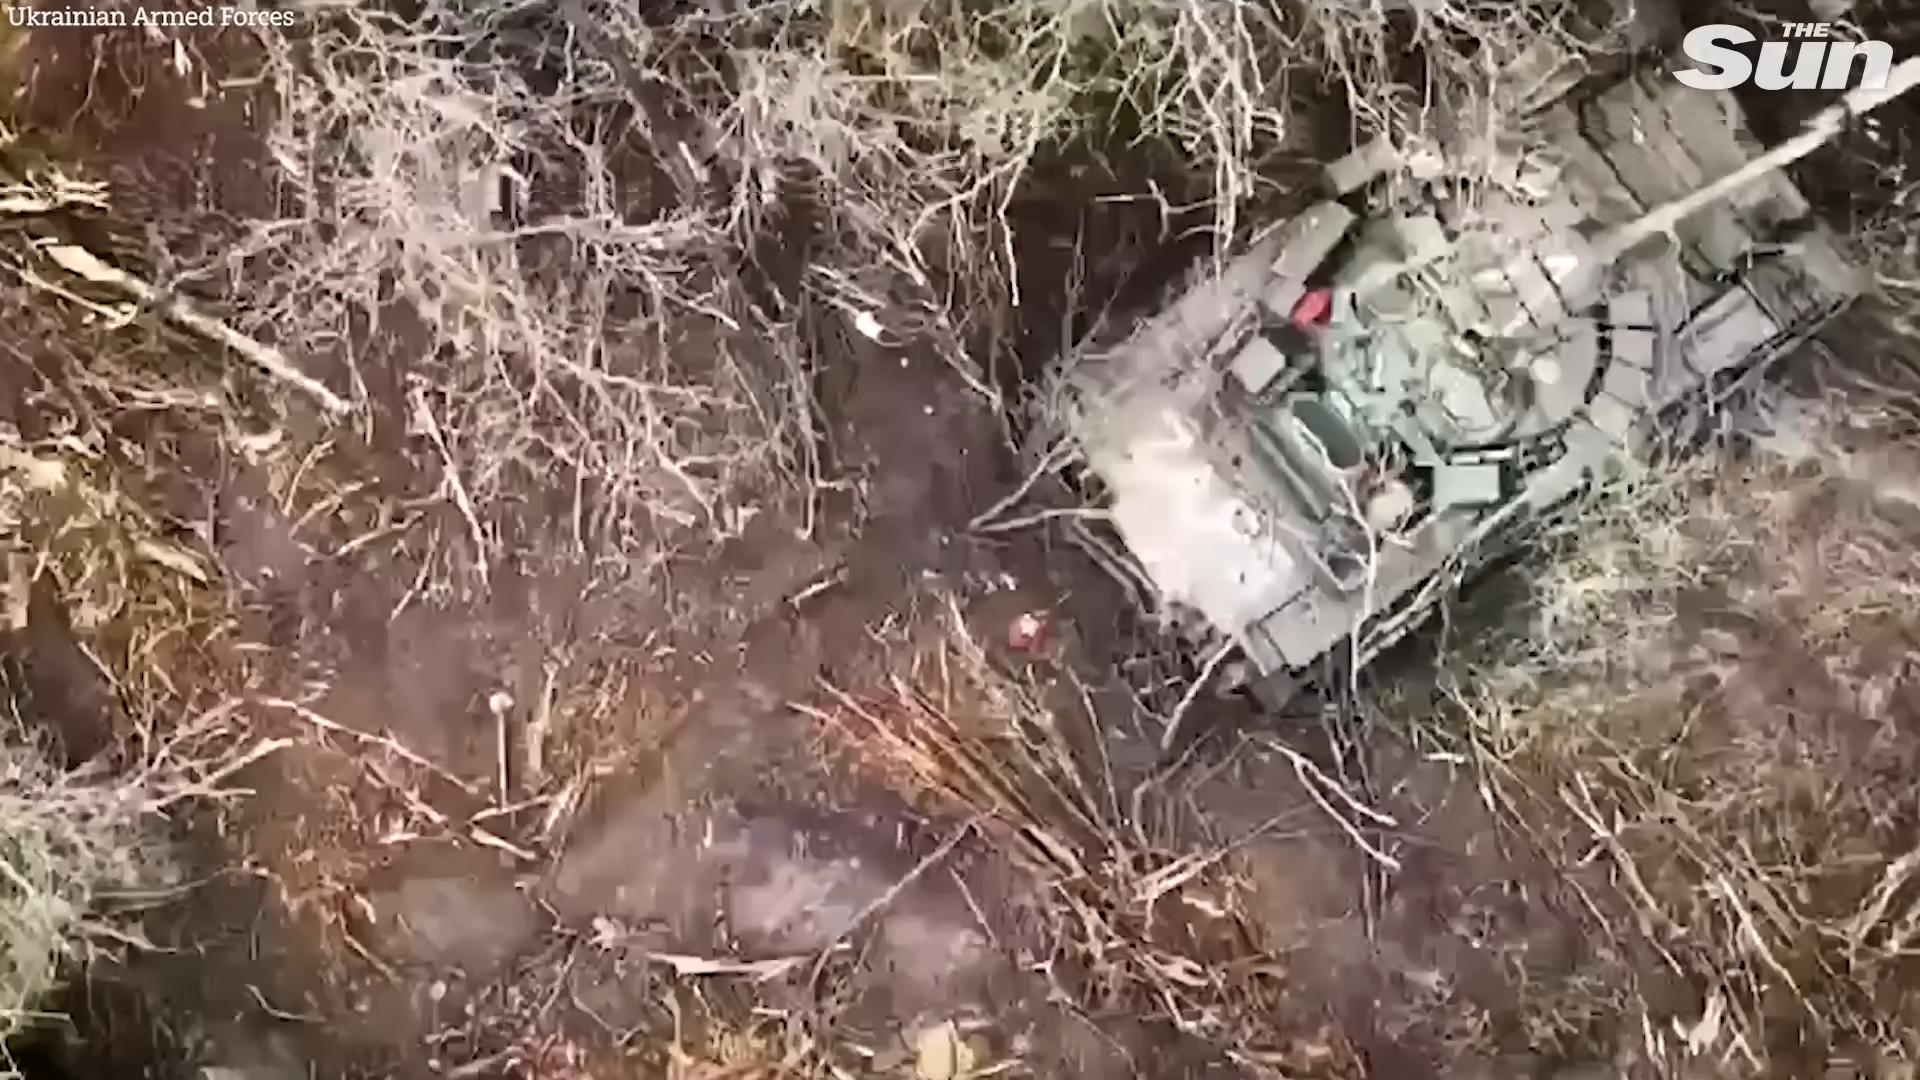tank: (1005, 0, 1919, 721)
